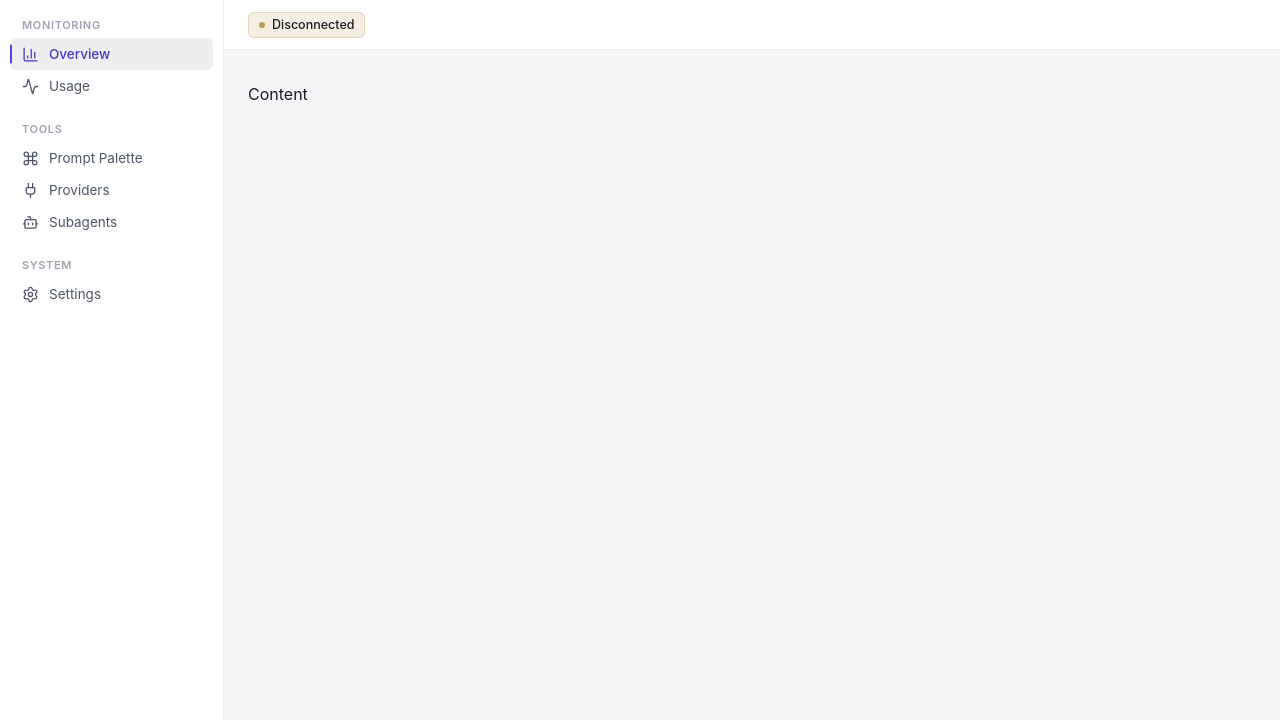
Test: AppShell status rendering › renders elevated lag as the single escalated chip and filters scan_progress
This screenshot has width=1280, height=720.
Click the button "Disconnected" at coordinates (307, 24), box x1=248 y1=12 x2=366 y2=38
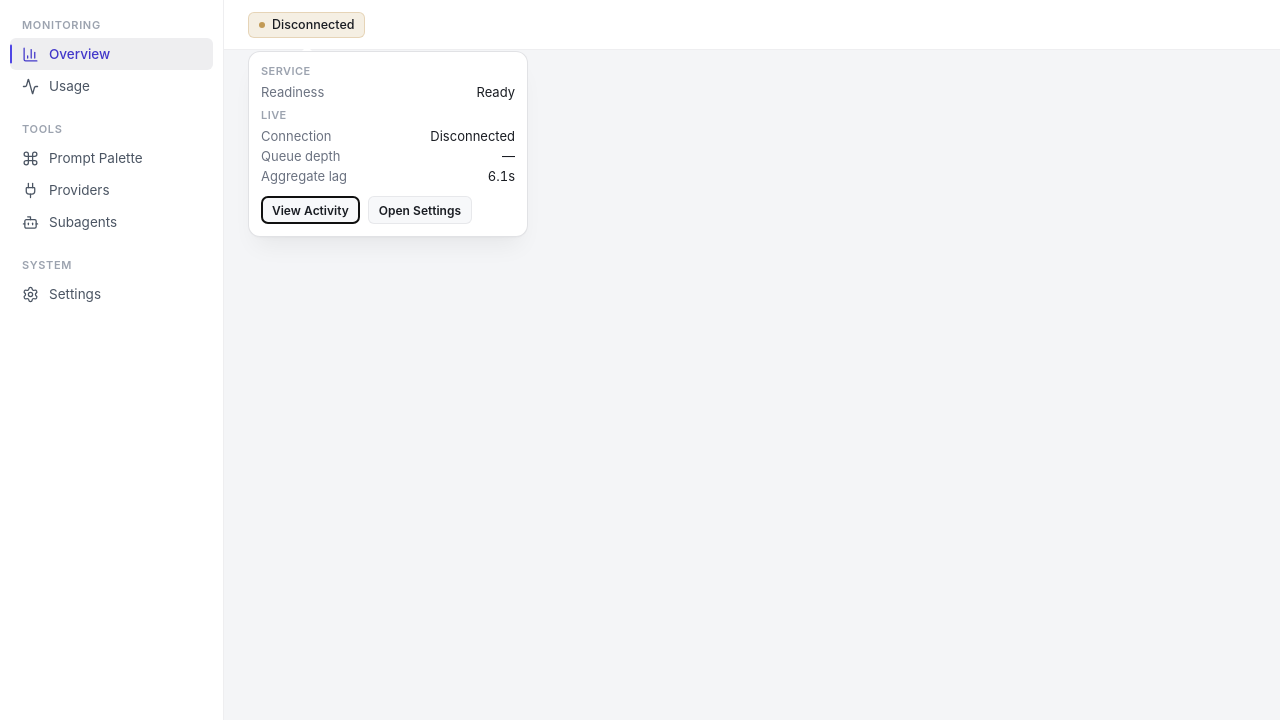
Expected: the text "Disconnected" next to "Connection" is shown, x1=430 y1=128 x2=515 y2=144
Expected: the text "6.1s" is shown, x1=488 y1=168 x2=515 y2=184
